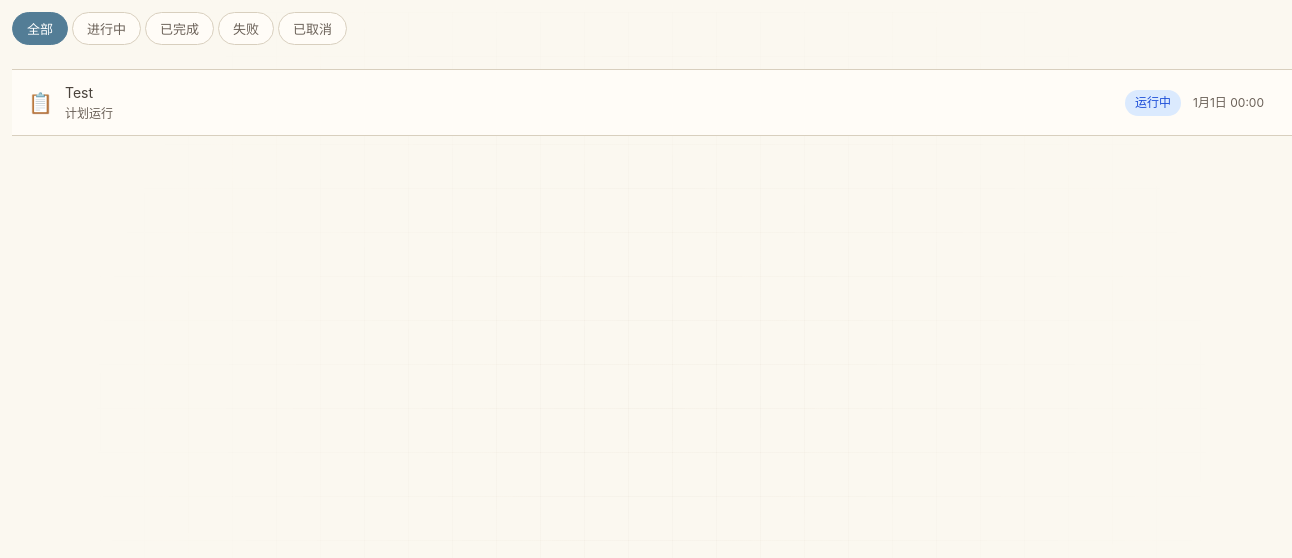
Test case: RunList › shows empty state message for filtered results
The image size is (1292, 558).
Click the tab with test id "filter-failed": (246, 28) [218, 12, 274, 45]
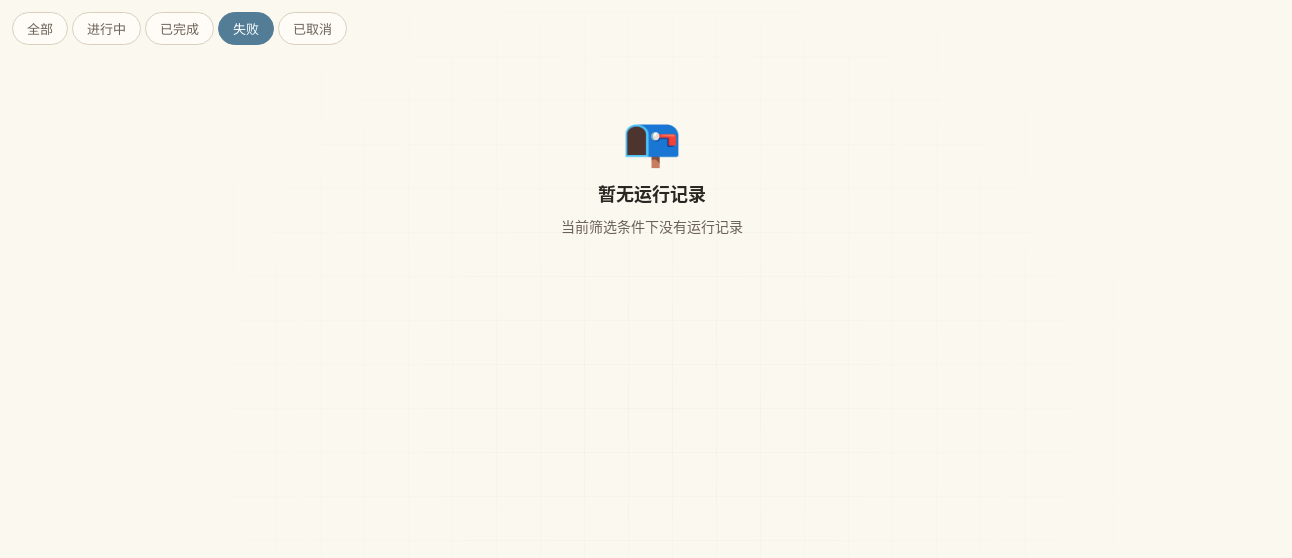
Expected: the text "当前筛选条件下没有运行记录" is shown, [561, 216, 743, 237]
